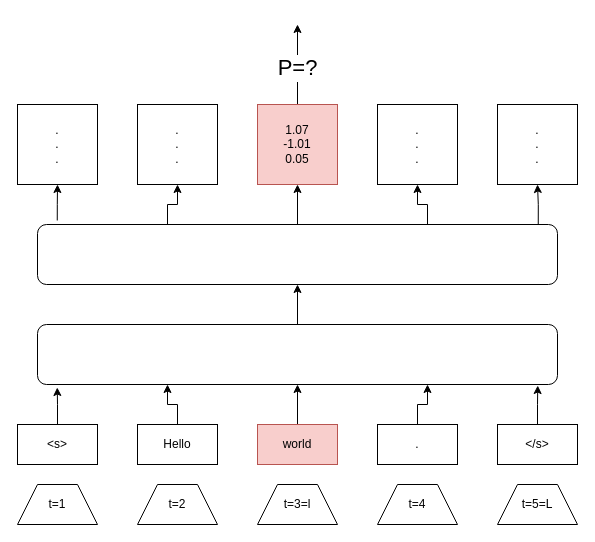
Some shapes in this 595 by 542 pixel diagram are drawn without their labels. Here are the shapes that lost their labels. From the top down, the box of each, then its label:
(36, 224, 558, 284): Linear
(36, 324, 558, 384): Transformer/CNN/RNN
